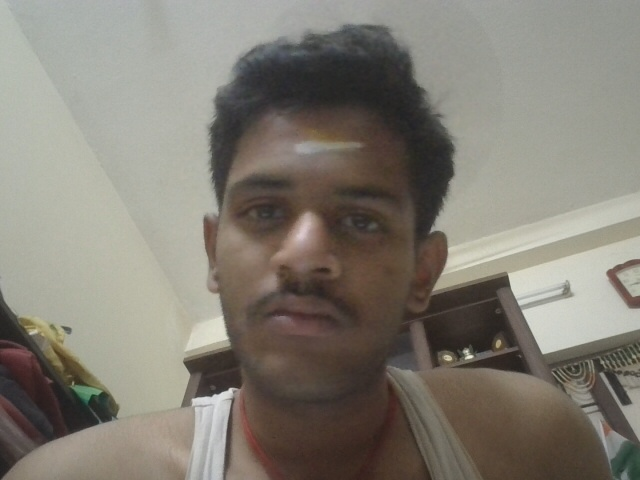real: (181, 106, 445, 370)
